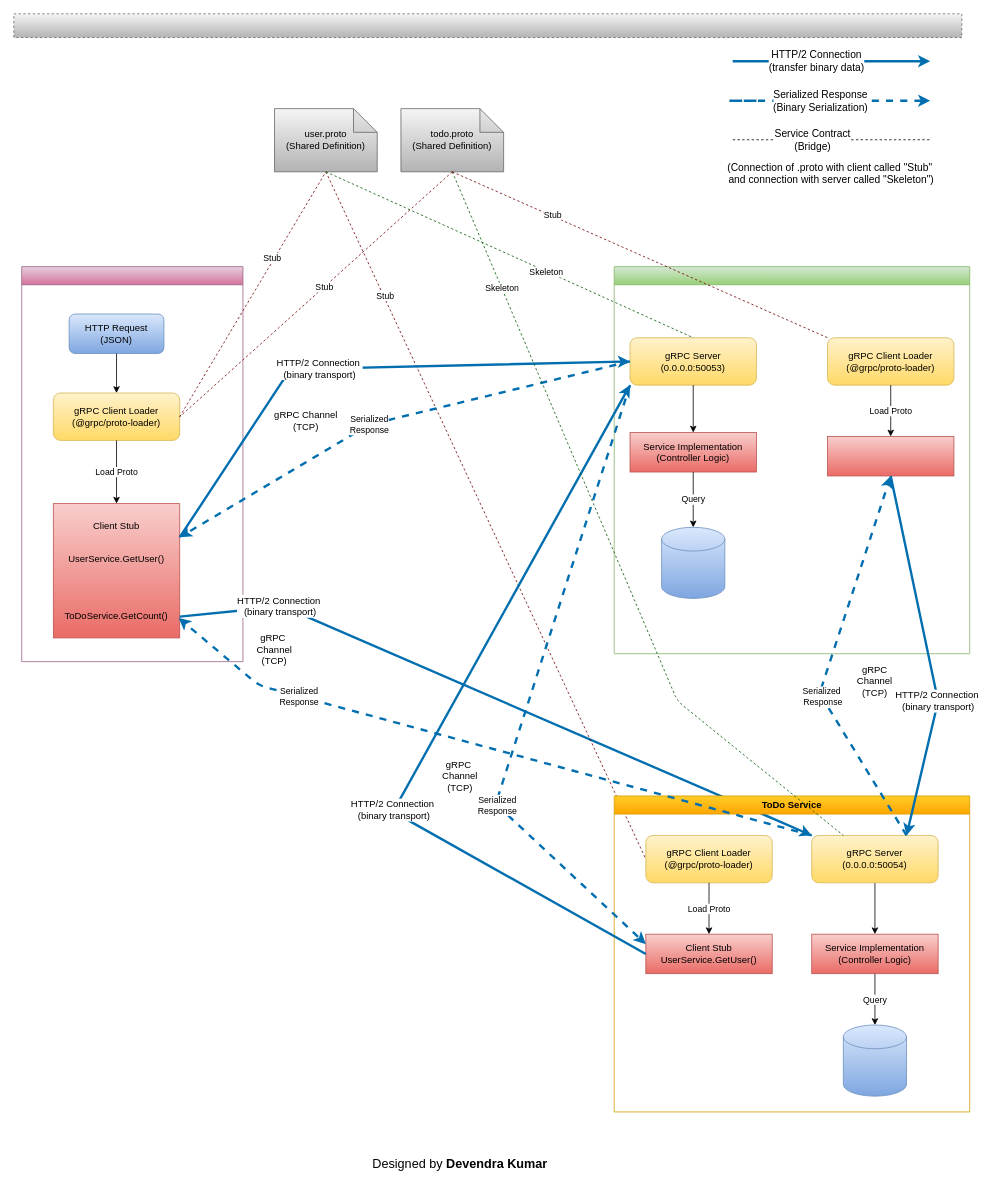
Image size: 995x1189. Some labels were removed from this diagram. The shapes that lost their labels are listed below. From the top down, each one's box as (x1, y1, x2, y2) in pixels, then its label:
(13, 13, 962, 38): gRPC Workflow
(21, 266, 243, 662): API Gateway Service
(613, 266, 970, 654): User Service
(827, 436, 954, 476): Client Stub ToDoService.GetCount()
(661, 527, 725, 598): Database (MySQL)
(843, 1024, 907, 1096): Database (MongoDB)
